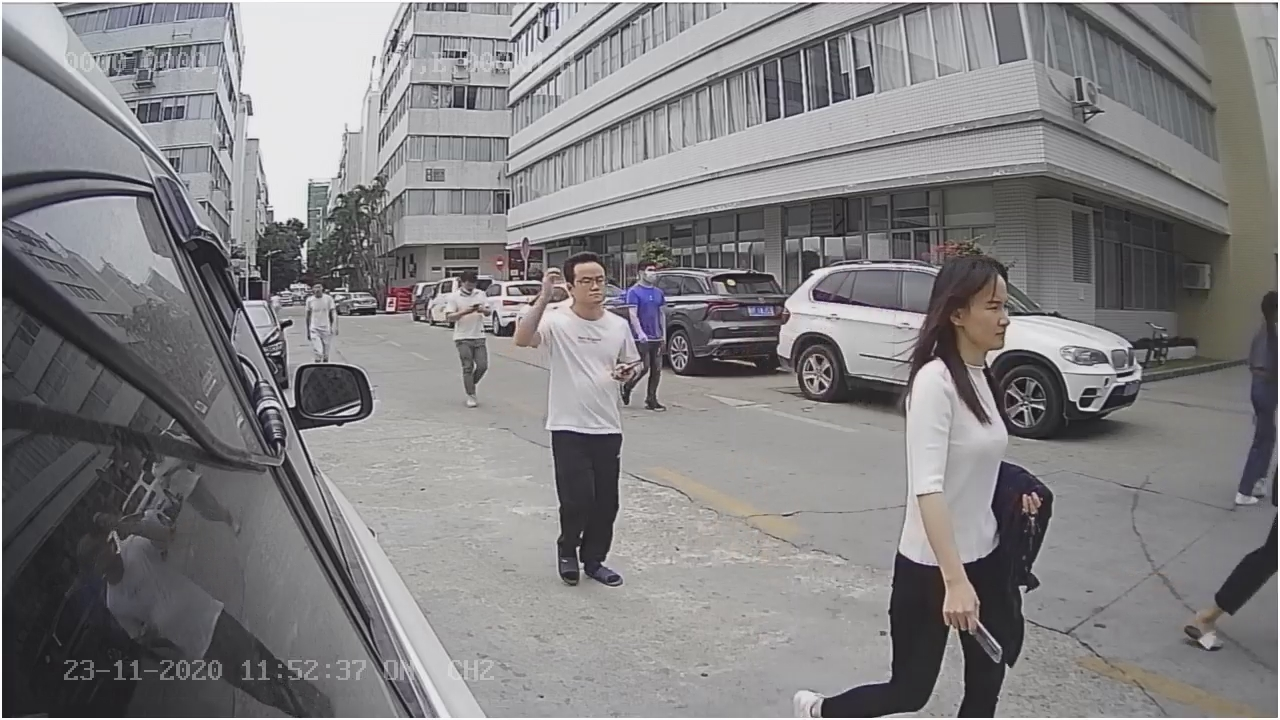person: (882, 240, 1025, 703), (523, 246, 633, 585)
